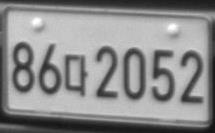0: (122, 46, 147, 100)
2: (179, 48, 204, 103), (94, 44, 119, 98)
5: (150, 48, 175, 102)
6: (37, 43, 62, 95)
8: (11, 40, 35, 93)
다: (64, 53, 89, 97)
